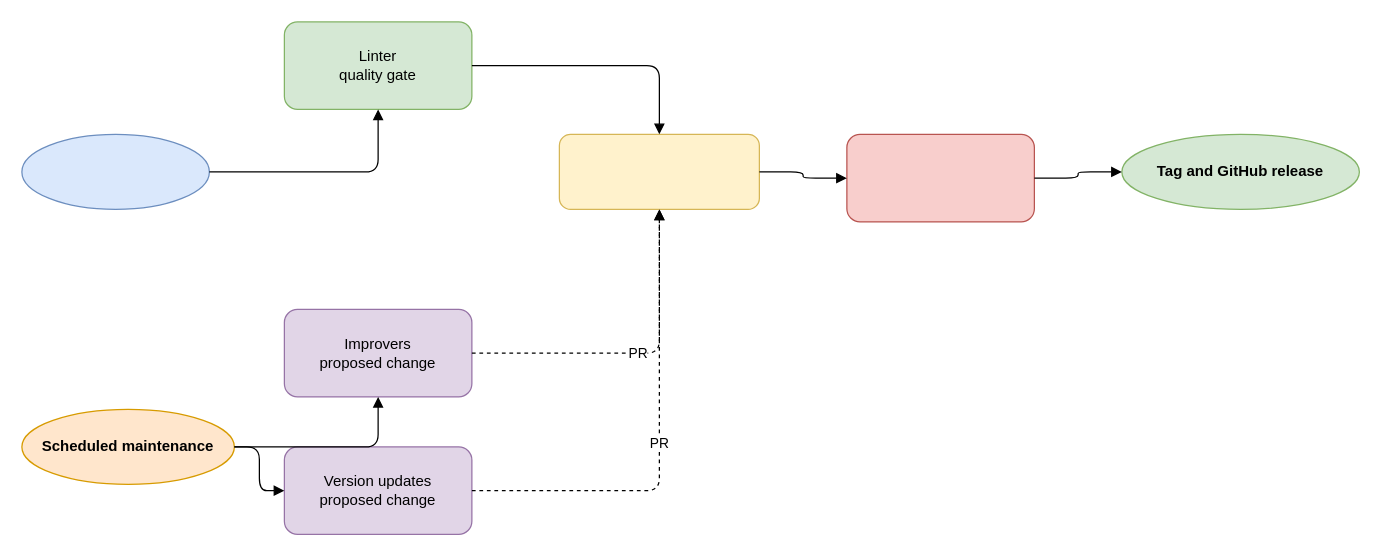
The diagram is 1381 pixels wide and 556 high, and some of its shapes have lost their labels. The shapes that lost their labels are listed below. From the top down, each one's box as (x1, y1, x2, y2) in pixels, then its label:
(21, 133, 209, 209): Repository change
(558, 133, 759, 209): Review and merge
(846, 133, 1034, 222): Release\nmanual publish
